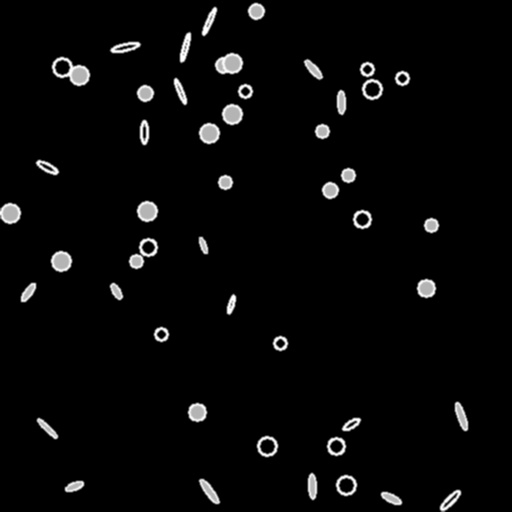pseudomonas: (198, 477, 220, 505), (438, 488, 462, 512), (36, 417, 58, 439), (453, 402, 469, 430), (201, 7, 217, 35), (19, 281, 37, 303), (35, 159, 59, 175), (173, 78, 187, 104), (110, 41, 140, 53), (304, 59, 322, 79), (179, 33, 191, 61), (342, 416, 360, 432), (64, 479, 84, 493), (381, 491, 401, 505), (109, 282, 123, 300), (226, 294, 236, 314), (308, 474, 316, 498), (337, 91, 345, 113), (140, 121, 148, 143), (198, 237, 208, 253)
synechocystis: (337, 476, 355, 494), (53, 58, 71, 76), (52, 252, 70, 270), (70, 66, 88, 84), (138, 202, 156, 220), (363, 80, 381, 98), (258, 437, 276, 455), (1, 204, 19, 222), (223, 54, 241, 72), (200, 124, 218, 142), (223, 105, 241, 123), (189, 404, 205, 420), (328, 438, 344, 454), (354, 211, 370, 227), (418, 280, 434, 296), (140, 239, 156, 255), (249, 4, 263, 18), (216, 58, 230, 72), (138, 86, 152, 100), (323, 183, 337, 197), (316, 125, 328, 137), (425, 219, 437, 231), (274, 337, 286, 349), (396, 72, 408, 84), (342, 169, 354, 181), (130, 255, 142, 267), (155, 328, 167, 340), (239, 85, 251, 97), (219, 176, 231, 188), (361, 63, 373, 75)
